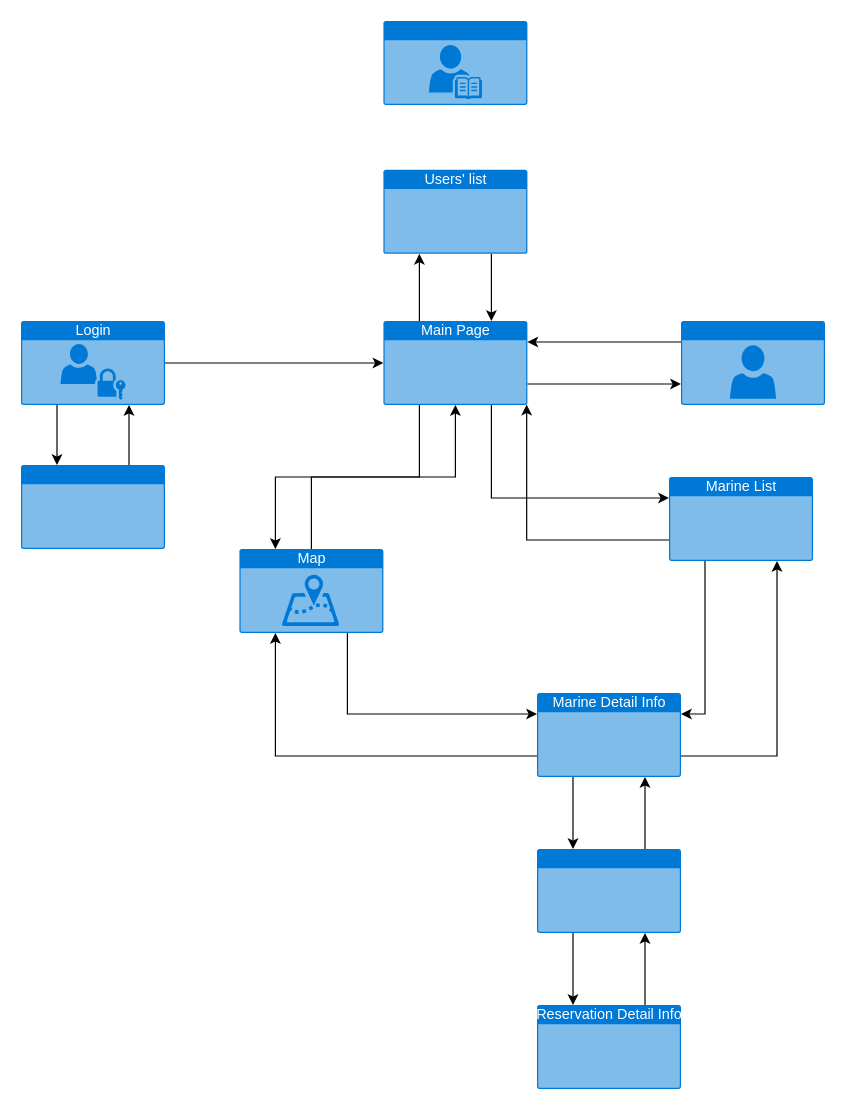
Image size: 845x1109. Some labels were removed from this diagram. Here are the shapes that lost their labels. From the top down, the box of each, then its label:
(383, 20, 527, 104): Biography
(680, 320, 824, 404): Personal Profile
(20, 464, 164, 548): Register
(536, 848, 680, 932): Reservations' list
